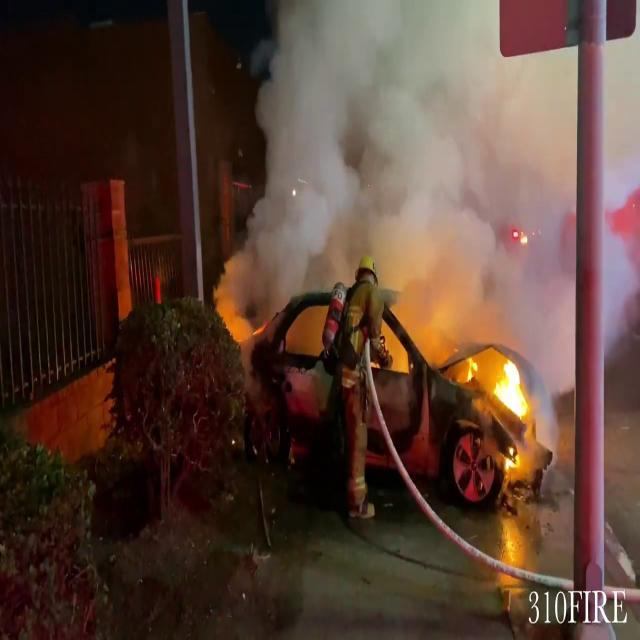Fire: (484, 352, 541, 431)
Smoke: (234, 0, 576, 336)
